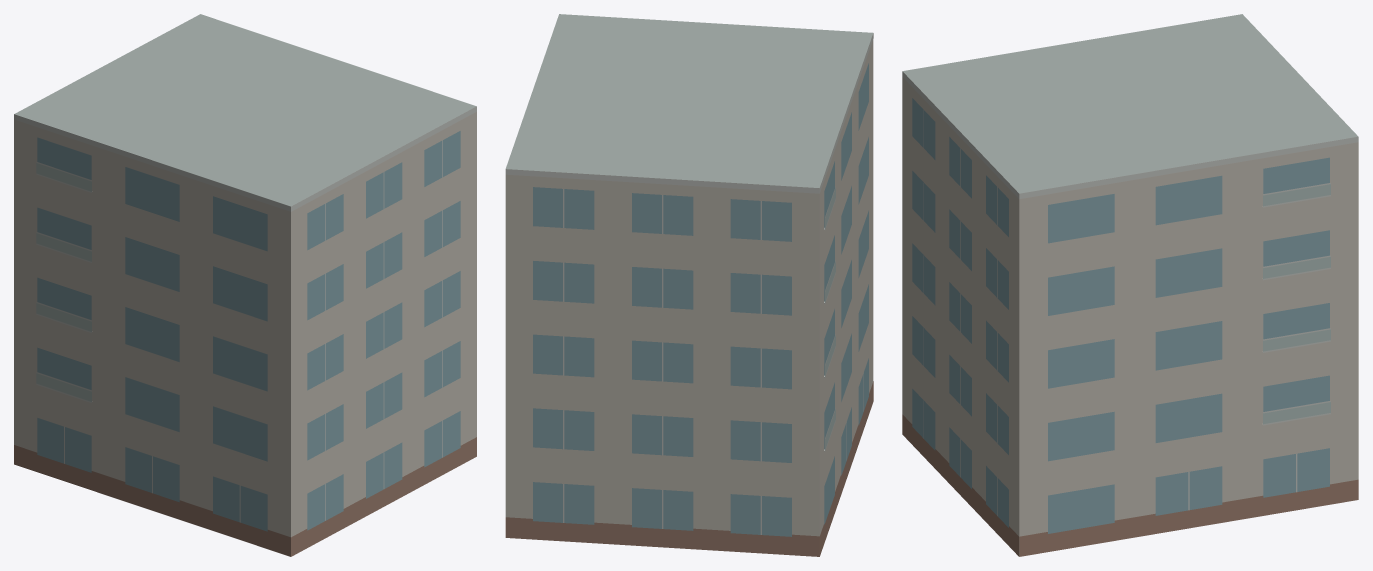
File: survey-upis-32731597.glb
3 renders of one model, left to right at view 1: azimuth 30°, elevation 25°; view 2: azimuth 150°, elevation 25°; view 3: azimuth 270°, elevation 25°, orthographic. The views are drawn at different scales.
Parts seen in each view (by area): view 1: survey-upis-32731597.tmp; view 2: survey-upis-32731597.tmp; view 3: survey-upis-32731597.tmp.
Part boxes in pixels (left/top/right/bottom): survey-upis-32731597.tmp: left=14, top=14, right=476, bottom=556; survey-upis-32731597.tmp: left=505, top=14, right=873, bottom=556; survey-upis-32731597.tmp: left=902, top=14, right=1358, bottom=556.
Bounding box in the file's own units: 16.98 × 16 × 18.22.
